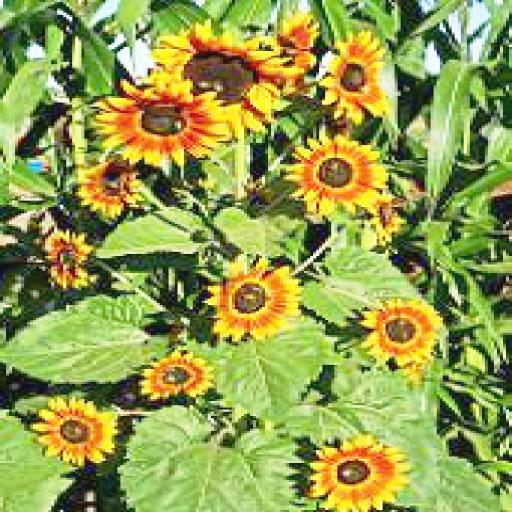sunflower: (145, 28, 286, 126), (99, 77, 223, 164), (280, 130, 392, 218), (211, 252, 301, 341), (298, 437, 404, 512), (319, 32, 398, 119), (33, 399, 118, 467), (364, 298, 446, 364), (75, 162, 148, 213), (141, 354, 211, 399), (40, 228, 90, 286)
